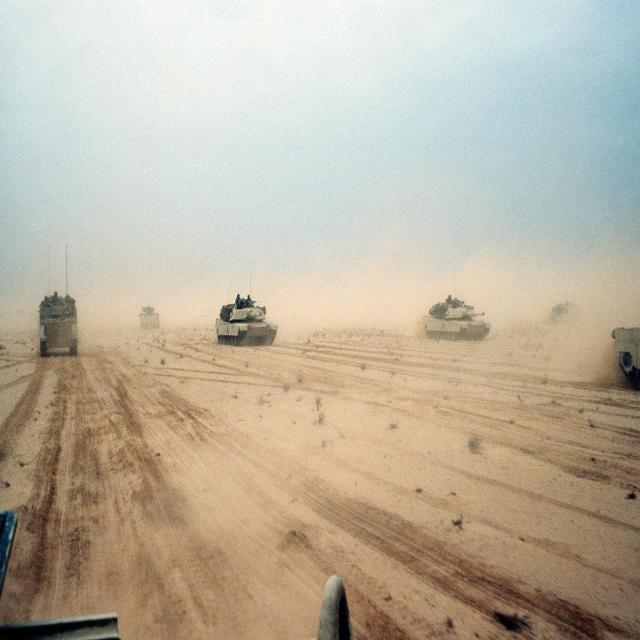MIL_MBT: (375, 186, 529, 416), (32, 200, 110, 445), (210, 259, 278, 379), (138, 276, 170, 376)
